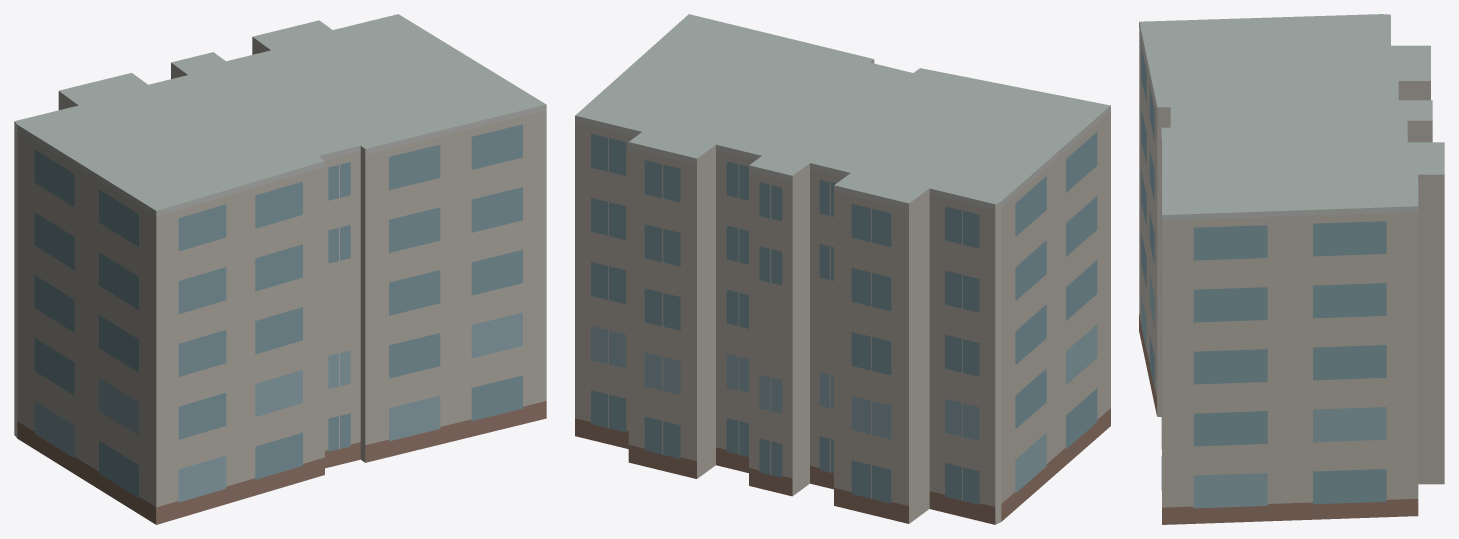
The model's file is survey-upis-32981499.glb.
The picture shows the model from 3 angles, left to right: view 1: azimuth 30°, elevation 25°; view 2: azimuth 150°, elevation 25°; view 3: azimuth 270°, elevation 25°; orthographic projection. The views are drawn at different scales.
Parts seen in each view (by area): view 1: survey-upis-32981499.tmp; view 2: survey-upis-32981499.tmp; view 3: survey-upis-32981499.tmp.
Part boxes in pixels (left/top/right/bottom): survey-upis-32981499.tmp: left=14, top=14, right=546, bottom=524; survey-upis-32981499.tmp: left=575, top=14, right=1110, bottom=524; survey-upis-32981499.tmp: left=1139, top=14, right=1444, bottom=524.
Size of the model in its own units: 18.61 by 13.36 by 11.95.
